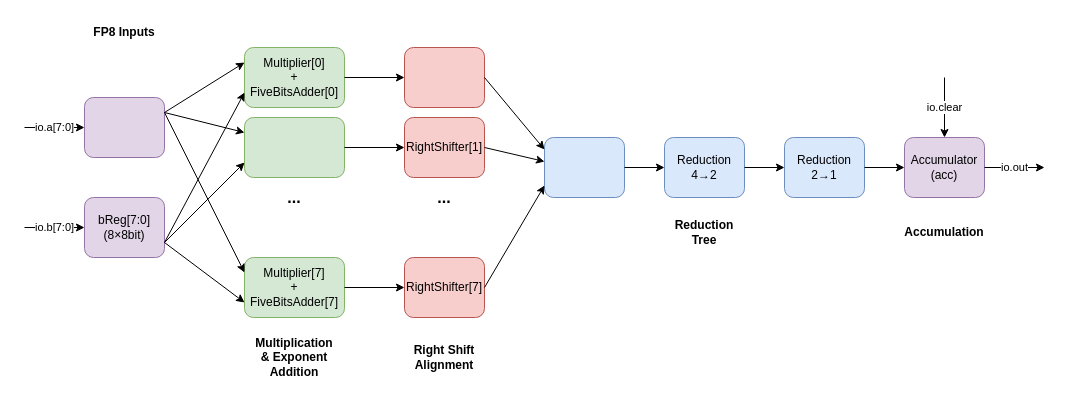
Some shapes in this 1070 by 396 pixel diagram are drawn without their labels. The shapes that lost their labels are listed below. From the top down, each one's box as (x1, y1, x2, y2) in pixels, then its label:
(404, 46, 484, 108): RightShifter[0]
(84, 96, 164, 158): aReg[7:0] (8×8bit)
(244, 116, 344, 178): Multiplier[1] + FiveBitsAdder[1]
(544, 136, 624, 198): Reduction 8→4
